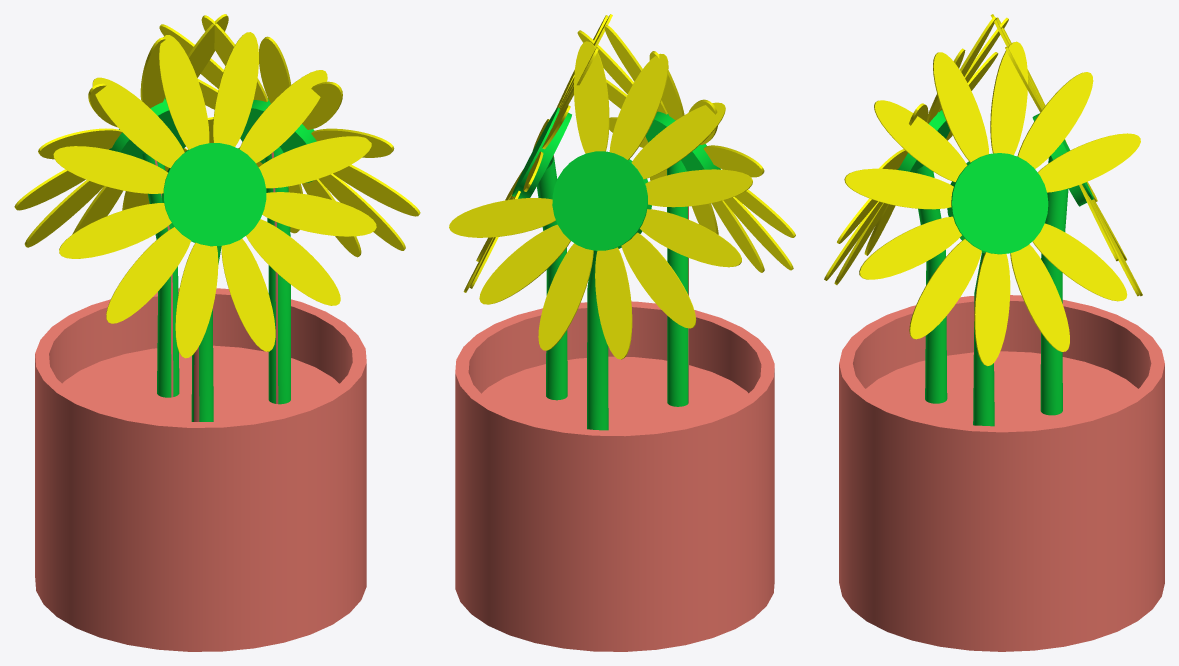
File: FlowerPot.glb
The picture shows the model from 3 angles, left to right: view 1: azimuth 30°, elevation 25°; view 2: azimuth 150°, elevation 25°; view 3: azimuth 270°, elevation 25°; orthographic projection. The views are drawn at different scales.
Parts seen in each view (by area): view 1: Flower Pot; view 2: Flower Pot; view 3: Flower Pot.
Boxes of the visible parts, left/top/right/bottom form: Flower Pot: left=14, top=14, right=420, bottom=651; Flower Pot: left=449, top=14, right=795, bottom=651; Flower Pot: left=824, top=14, right=1164, bottom=651.
Bounding box in the file's own units: 1.04 × 1.72 × 0.9683.
